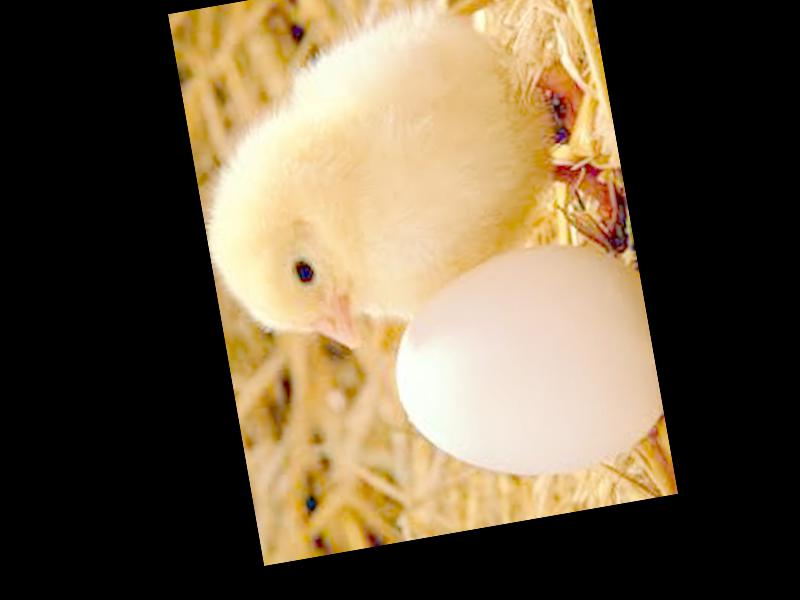Eggs: (376, 229, 671, 497)
